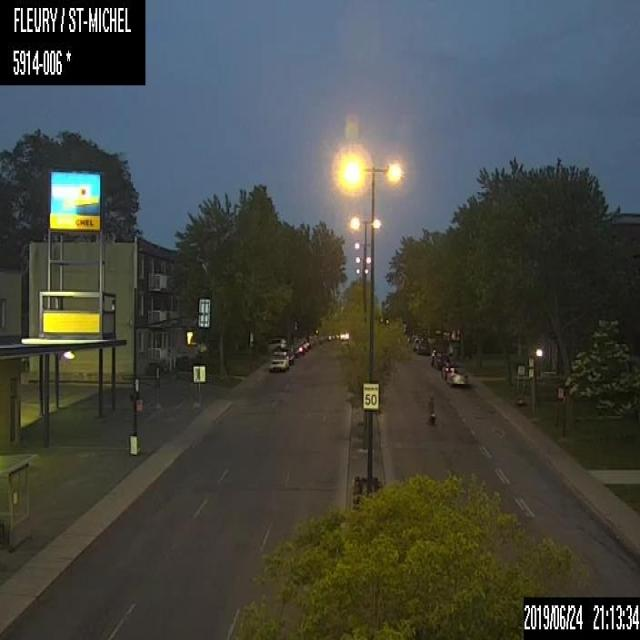pedestrian: (428, 394, 435, 424)
vehicle: (267, 350, 288, 372), (429, 348, 449, 369), (446, 366, 467, 386), (440, 358, 457, 378), (266, 337, 287, 353), (413, 336, 430, 354), (280, 347, 293, 363), (298, 336, 308, 352), (289, 342, 298, 357)
